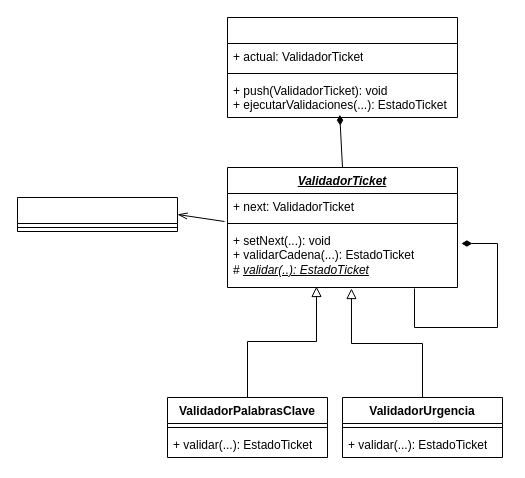
The diagram is 525 pixels wide and 478 high, and some of its shapes have lost their labels. Each missing label, with the box of its shape:
GestorValidadores: (226, 16, 458, 118)
Ticket: (16, 196, 178, 232)
